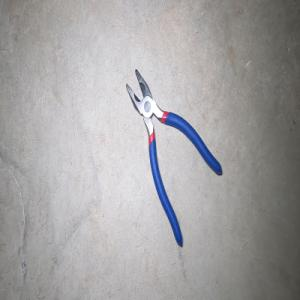Pliers: (125, 68, 222, 247)
